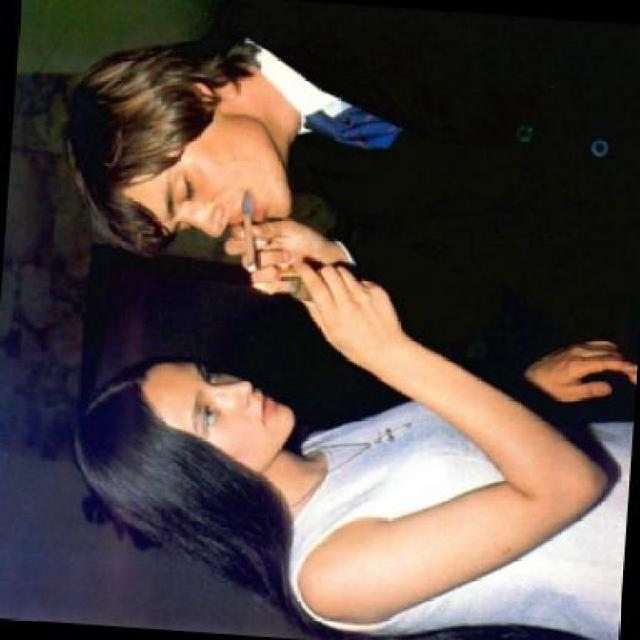cigarette: (236, 208, 262, 274)
